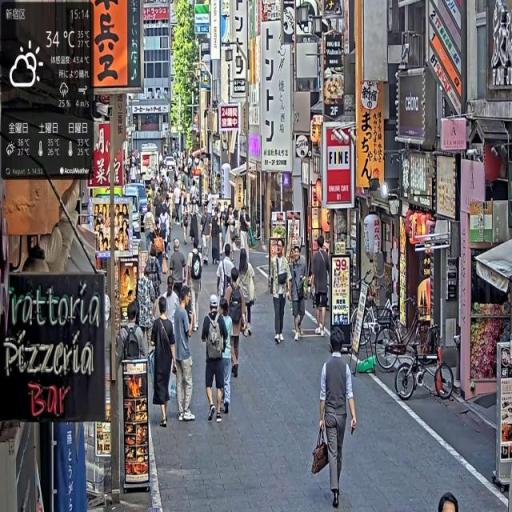person: (312, 329, 361, 512), (151, 294, 176, 430), (174, 284, 198, 424), (204, 292, 229, 425), (114, 302, 151, 376), (224, 268, 247, 380), (270, 237, 292, 344), (288, 240, 311, 342), (311, 235, 332, 338), (138, 266, 158, 356), (238, 248, 258, 337), (187, 241, 204, 336), (216, 245, 236, 312), (169, 238, 188, 302), (145, 250, 163, 299)
